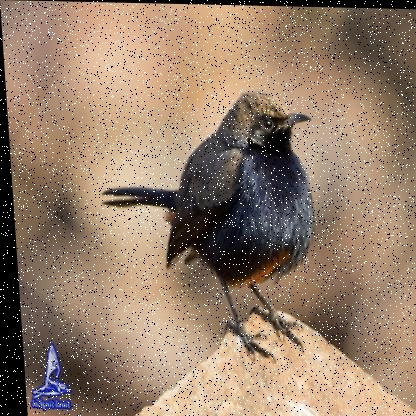Burung: (93, 86, 324, 363)
